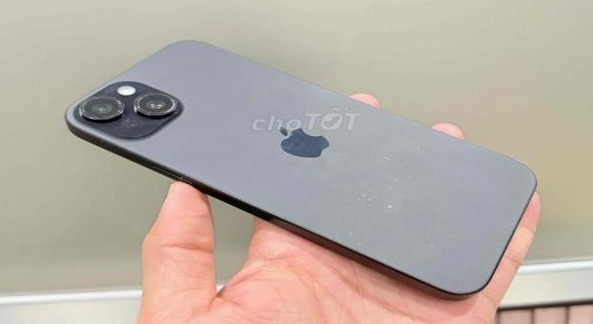scratch: (342, 150, 421, 231), (76, 84, 181, 134), (342, 226, 451, 259)
